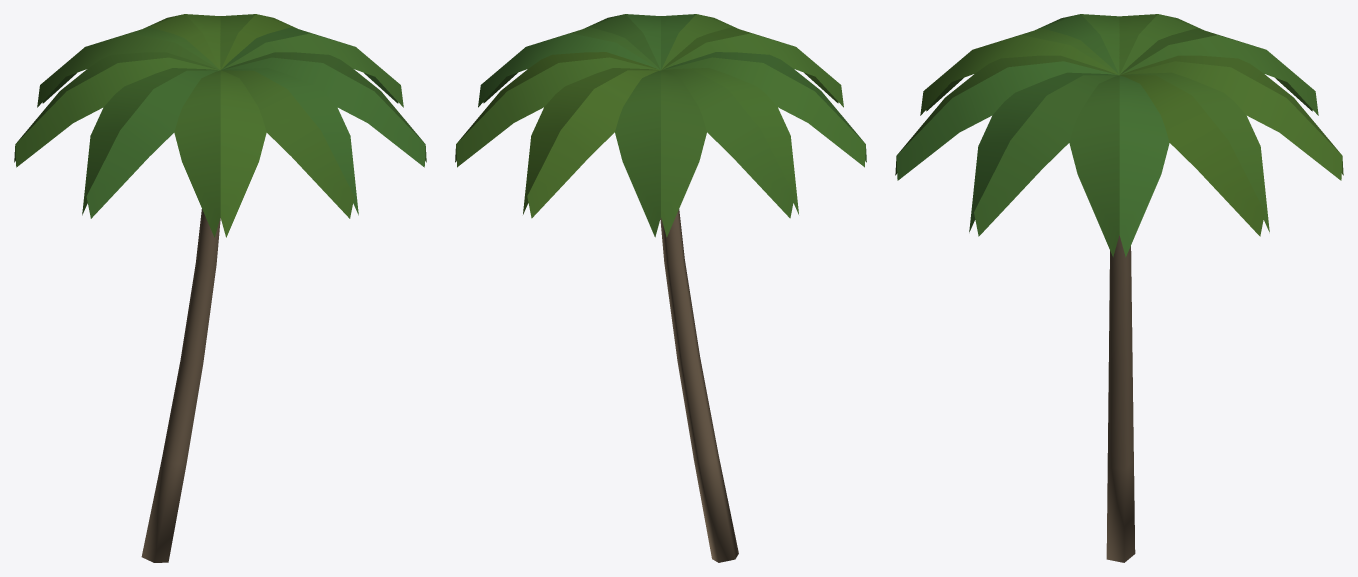
The model's file is PRP_Palm_Coconut_B_LOD1.glb.
3 views of the same model, side by side, from view 1: azimuth 30°, elevation 25°; view 2: azimuth 150°, elevation 25°; view 3: azimuth 270°, elevation 25° (orthographic). The views are drawn at different scales.
Visible parts, largest first — view 1: PRP_Palm_Coconut_B_LOD1_Mesh; view 2: PRP_Palm_Coconut_B_LOD1_Mesh; view 3: PRP_Palm_Coconut_B_LOD1_Mesh.
Part boxes in pixels (x1,y1,x2,y2): PRP_Palm_Coconut_B_LOD1_Mesh: (14, 14, 426, 562); PRP_Palm_Coconut_B_LOD1_Mesh: (455, 14, 866, 562); PRP_Palm_Coconut_B_LOD1_Mesh: (895, 14, 1343, 562).
Size of the model in its own units: 7.02 by 9.37 by 7.13.
